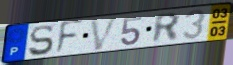3: (183, 8, 209, 41)
5: (120, 15, 144, 46)
F: (53, 18, 85, 57)
R: (151, 11, 181, 45)
S: (27, 23, 55, 57)
V: (89, 16, 121, 52)
